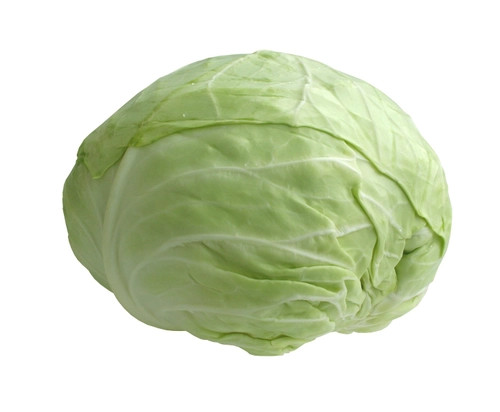cabbage: (59, 48, 455, 362)
